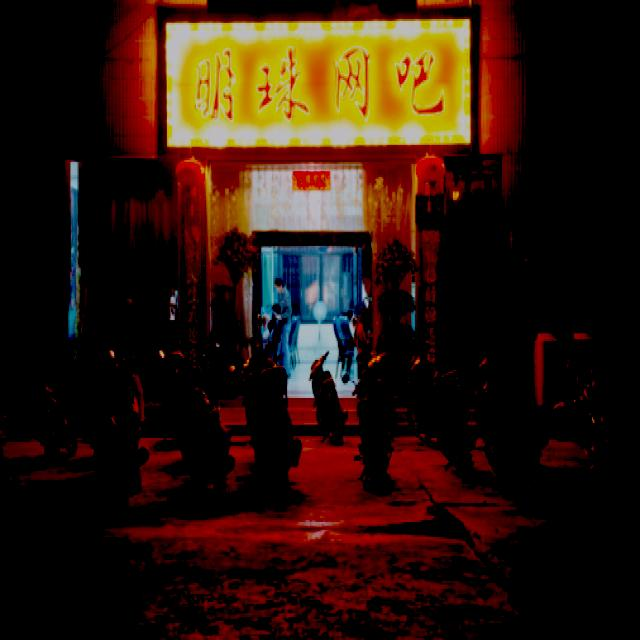Motorbike: (158, 347, 248, 504), (70, 346, 152, 510), (472, 346, 548, 494), (235, 344, 309, 495), (425, 340, 481, 482), (354, 347, 401, 488)
